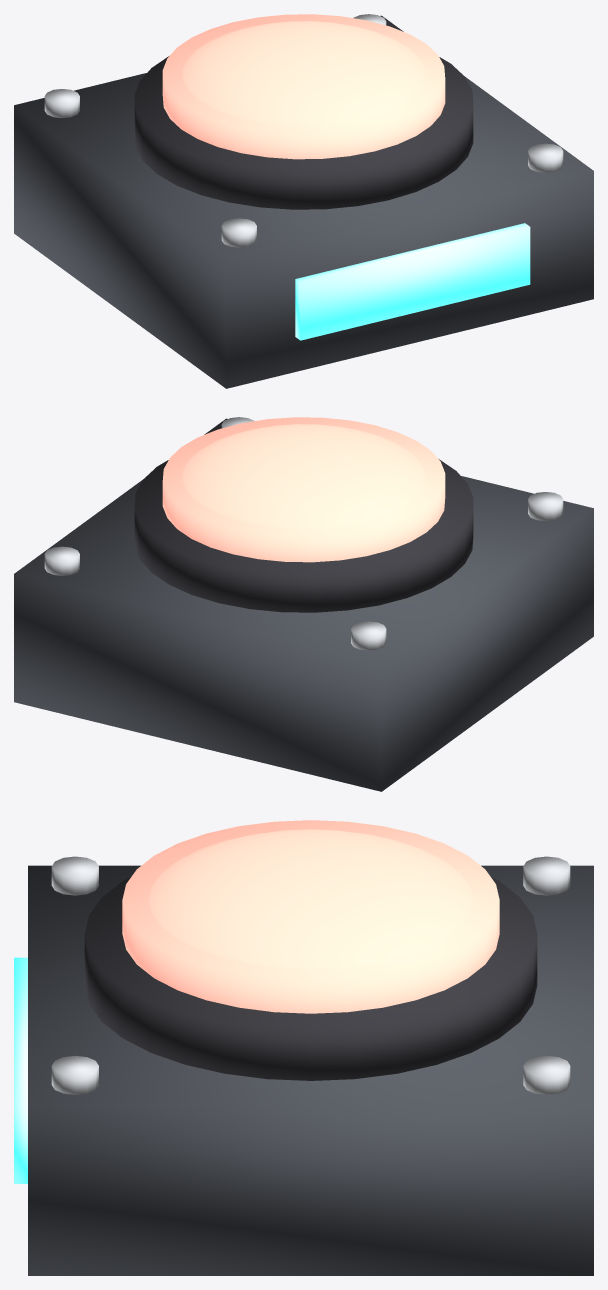
Rendered from ArcadeSpawnButton.fbx.
3 views of the same model, one above another, from view 1: azimuth 30°, elevation 25°; view 2: azimuth 150°, elevation 25°; view 3: azimuth 270°, elevation 25° (orthographic). The views are drawn at different scales.
Parts seen in each view (by area): view 1: ArcadeButton_Chassis, Button_Dome; view 2: ArcadeButton_Chassis, Button_Dome; view 3: ArcadeButton_Chassis, Button_Dome.
Boxes of the visible parts, x1,y1,x2,y2 form: ArcadeButton_Chassis: [14, 14, 593, 388]; Button_Dome: [162, 14, 445, 159]; ArcadeButton_Chassis: [14, 417, 593, 791]; Button_Dome: [162, 417, 445, 562]; ArcadeButton_Chassis: [14, 856, 593, 1275]; Button_Dome: [122, 820, 499, 1013].
Size of the model in its own units: 12 by 6.8 by 12.3.
